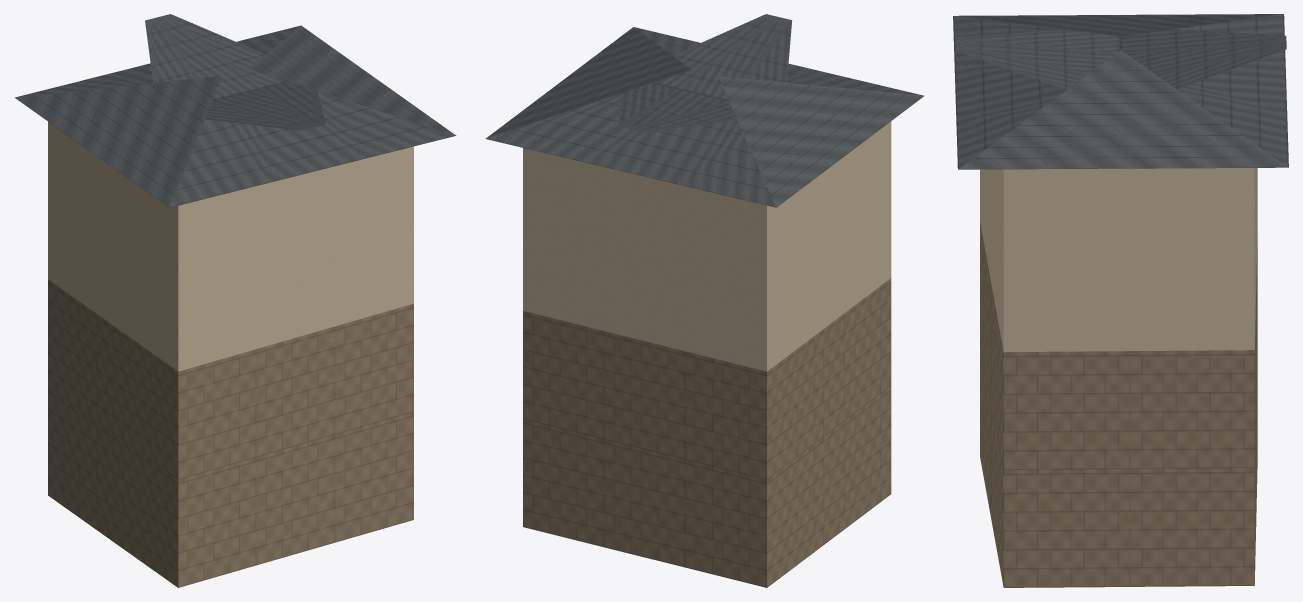
The model's file is bld_c39_11_623.gltf.
The picture shows the model from 3 angles, left to right: view 1: azimuth 30°, elevation 25°; view 2: azimuth 150°, elevation 25°; view 3: azimuth 270°, elevation 25°; orthographic projection. The views are drawn at different scales.
Visible parts, largest first — view 1: bld_c39_11_623; view 2: bld_c39_11_623; view 3: bld_c39_11_623.
Boxes of the visible parts, bbox=[...] form: bld_c39_11_623: bbox=[15, 14, 456, 587]; bld_c39_11_623: bbox=[485, 14, 924, 587]; bld_c39_11_623: bbox=[953, 14, 1288, 587].
Bounding box in the file's own units: 6.91 × 9.9 × 6.3.
3 materials, 3 textured.
